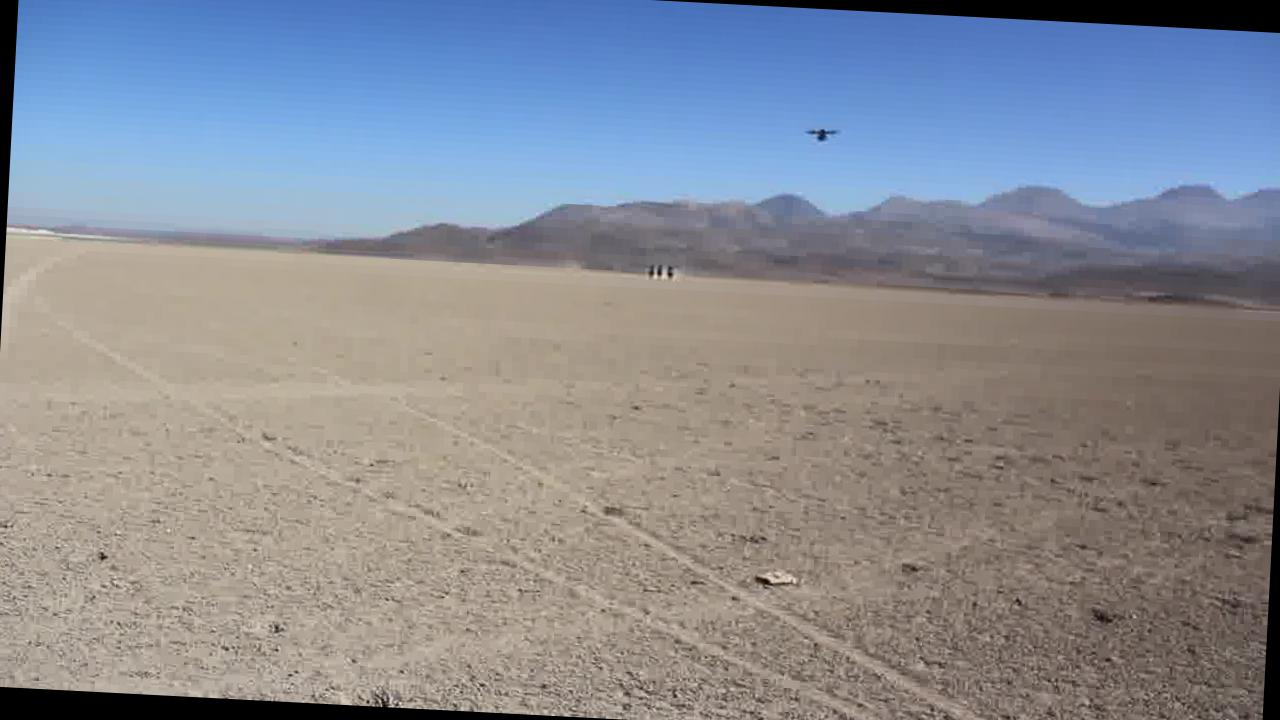drone: (798, 118, 842, 146)
